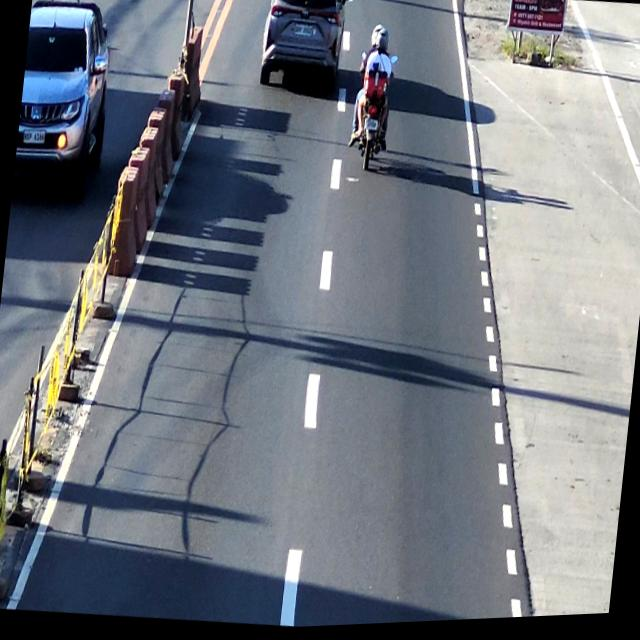Car: (255, 0, 350, 100)
License-Plate: (362, 120, 380, 138), (293, 24, 314, 39)
Motorcycle: (348, 28, 398, 171)
